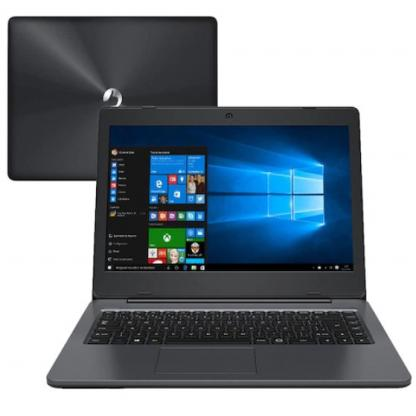NOTEBOOK: (3, 2, 416, 416)
